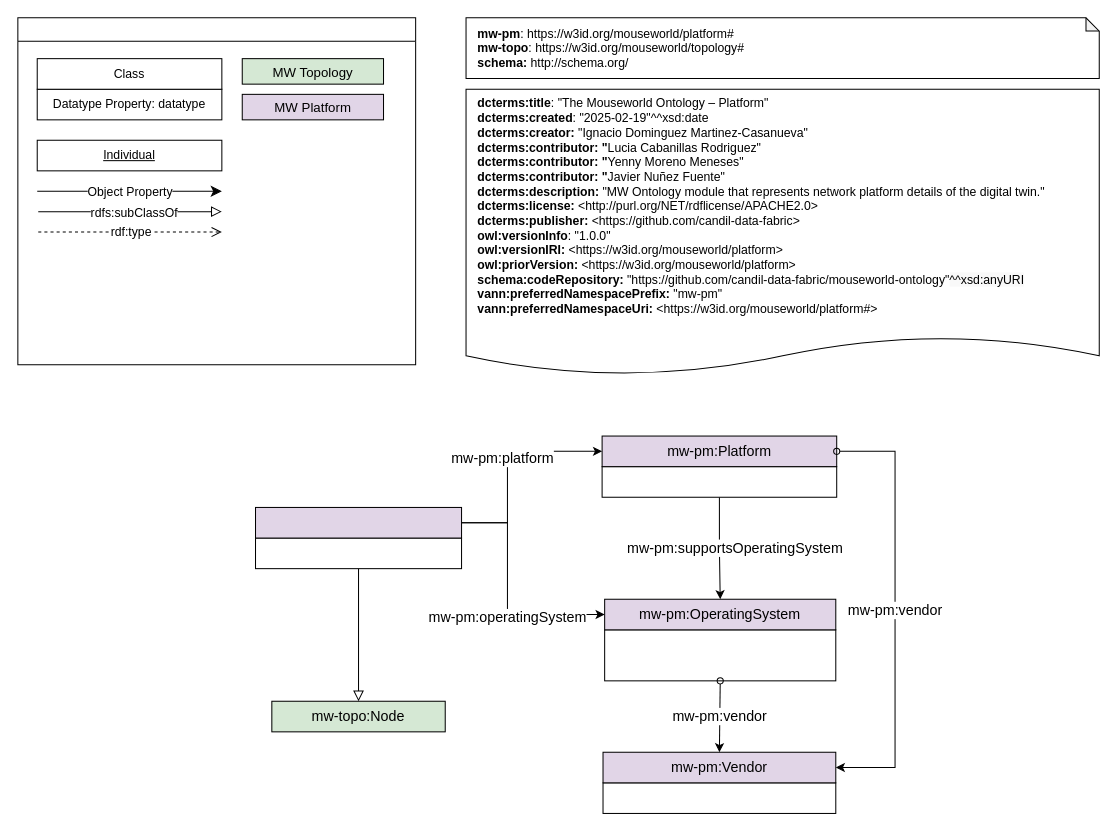
This 1118x831 diagram has some shape labels left out. Here are the shapes that lost their labels. From the top down, the box of each, then its label:
(17, 17, 416, 365): Legend
(601, 466, 837, 497): mw-pm:platformName: xsd:string
(254, 506, 462, 538): mw-pm:Router
(254, 537, 462, 569): mw-pm:hostname: xsd:string
(604, 629, 836, 681): mw-pm:osName: xsd:string mw-pm:osVersion: xsd:string
(602, 782, 836, 813): mw-pm:vendorName: xsd:string
